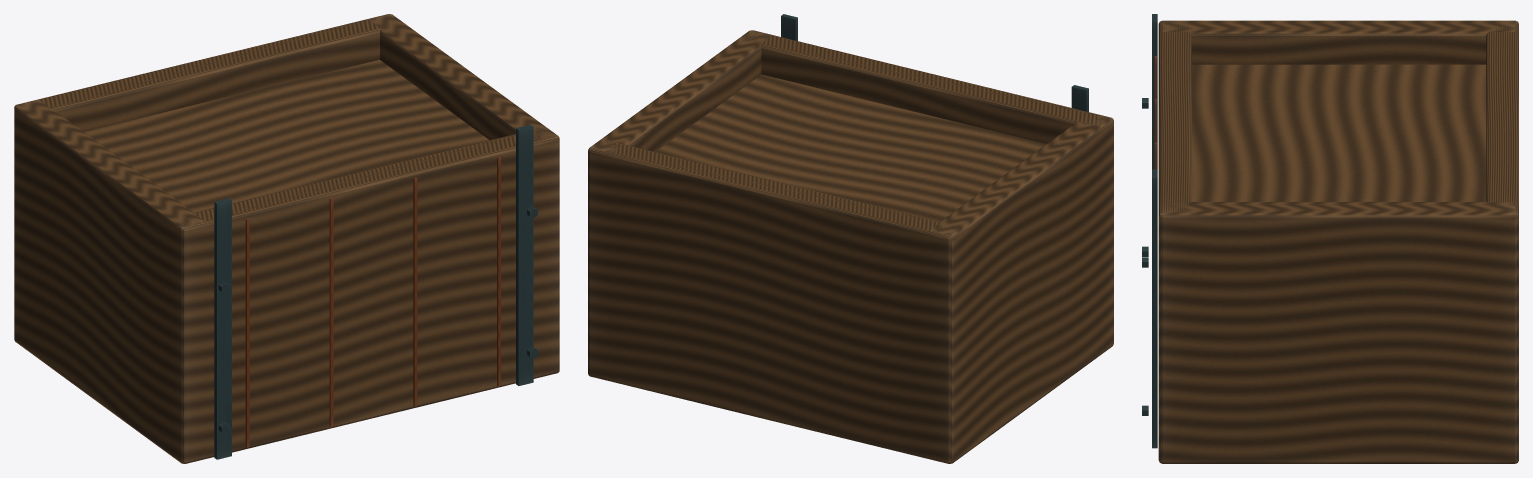
File: market_crate.fbx
3 views of the same model, side by side, from view 1: azimuth 30°, elevation 25°; view 2: azimuth 150°, elevation 25°; view 3: azimuth 270°, elevation 25° (orthographic). The views are drawn at different scales.
Visible parts, largest first — view 1: market_crate__long_side, market_crate__end_side, market_crate__side_plank.001, market_crate__long_side.001, market_crate__end_side.001, market_crate__strap.001, market_crate__strap, market_crate__timber_seam, market_crate__timber_seam.002, market_crate__timber_seam.001, market_crate__timber_seam.003; view 2: market_crate__long_side.001, market_crate__end_side, market_crate__side_plank.001, market_crate__long_side, market_crate__end_side.001; view 3: market_crate__end_side.001, market_crate__side_plank.001, market_crate__end_side, market_crate__long_side, market_crate__long_side.001, market_crate__strap.001, market_crate__strap.
Boxes of the visible parts, bbox=[...] form: market_crate__long_side: bbox=[173, 127, 559, 463]; market_crate__end_side: bbox=[14, 100, 204, 463]; market_crate__side_plank.001: bbox=[84, 60, 489, 212]; market_crate__long_side.001: bbox=[15, 14, 396, 131]; market_crate__end_side.001: bbox=[369, 14, 559, 371]; market_crate__strap.001: bbox=[516, 124, 533, 385]; market_crate__strap: bbox=[214, 198, 231, 459]; market_crate__timber_seam: bbox=[245, 218, 249, 447]; market_crate__timber_seam.002: bbox=[413, 177, 417, 406]; market_crate__timber_seam.001: bbox=[329, 198, 333, 426]; market_crate__timber_seam.003: bbox=[497, 157, 500, 386]; market_crate__long_side.001: bbox=[588, 140, 951, 463]; market_crate__end_side: bbox=[930, 115, 1113, 463]; market_crate__side_plank.001: bbox=[656, 74, 1046, 221]; market_crate__long_side: bbox=[741, 30, 1112, 143]; market_crate__end_side.001: bbox=[588, 30, 771, 373]; market_crate__end_side.001: bbox=[1160, 202, 1517, 463]; market_crate__side_plank.001: bbox=[1191, 64, 1486, 201]; market_crate__end_side: bbox=[1162, 20, 1515, 64]; market_crate__long_side: bbox=[1158, 21, 1191, 462]; market_crate__long_side.001: bbox=[1486, 21, 1518, 462]; market_crate__strap.001: bbox=[1152, 169, 1157, 448]; market_crate__strap: bbox=[1152, 14, 1157, 169].
Bounding box in the file's own units: 226 × 147 × 184.
Materials: 3 (3 with a texture image).
